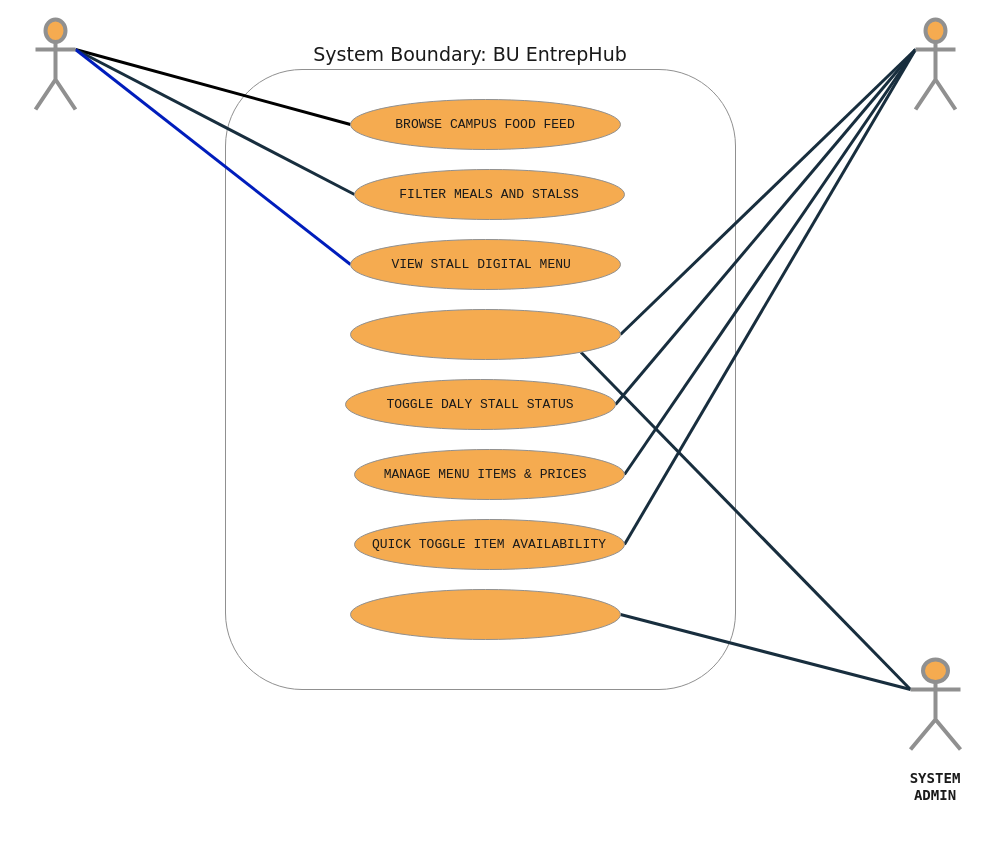
Some shapes in this 1003 by 849 pixel diagram are drawn without their labels. Each missing label, with the centre of its shape:
"LOGIN / AUTHENTICATE" goes at point (485, 334).
"MANAGE STALL APPROVALS & USERS" goes at point (485, 614).
"STUDENT CONSUMER" goes at point (55, 64).
"STUDENT ENTREPRENEUR" goes at point (935, 64).
